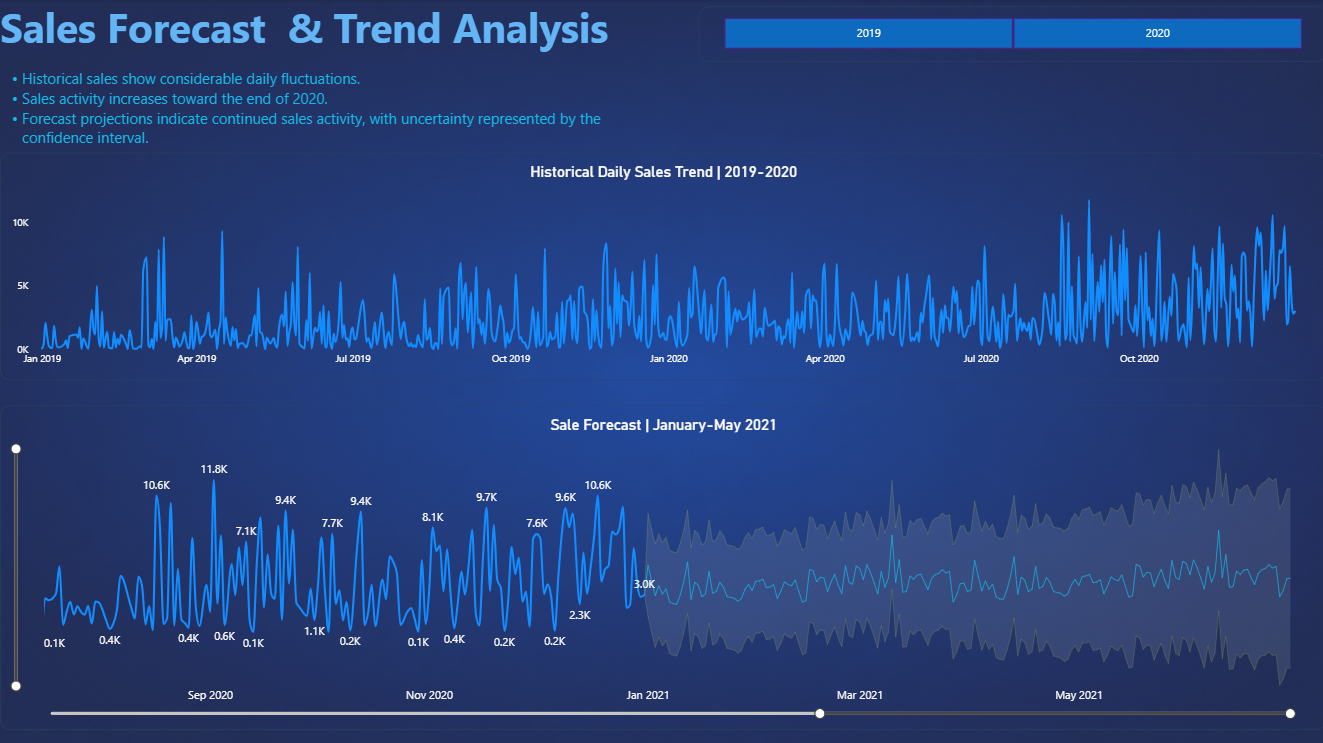

What the dashboard file says about the page in this screenshot:
{"tool":"powerbi","page":{"name":"Sales Forecast","canvas":[1920,1080],"ordinal":1},"visuals":[{"type":"lineChart","title":"Historical Daily Sales Trend | 2019-2020","fields":{"Category":["SalesForecast.Order Date"],"Y":["Sum(SalesForecast.Total_Sales)"]},"box":[0,222.6,1920.1,329.4],"z":0},{"type":"lineChart","title":"Sale Forecast | January-May 2021","fields":{"Category":["SalesForecast.Order Date"],"Y":["Sum(SalesForecast.Total_Sales)"]},"box":[0,588.1,1920.4,469.3],"z":1000},{"type":"textbox","box":[0,0,960.9,99.5],"z":2000},{"type":"slicer","fields":{"Values":["SalesForecast.Order Date.Variation.Date Hierarchy.Year"]},"box":[1011.6,10.9,908.4,79.6],"z":3000},{"type":"textbox","box":[0,99.5,926.5,123.1],"z":4000}]}

Visuals, with their boxes in screenshot pixels (x1, y1, x2, y2), scaled from the page's 1920x1080 canvas onto the 1323x743 screenshot:
"Historical Daily Sales Trend | 2019-2020" lineChart: [left=0, top=153, right=1322, bottom=380]
"Sale Forecast | January-May 2021" lineChart: [left=0, top=405, right=1322, bottom=727]
textbox: [left=0, top=0, right=662, bottom=68]
slicer - SalesForecast.Order Date.Variation.Date Hierarchy.Year: [left=697, top=7, right=1322, bottom=62]
textbox: [left=0, top=68, right=638, bottom=153]
